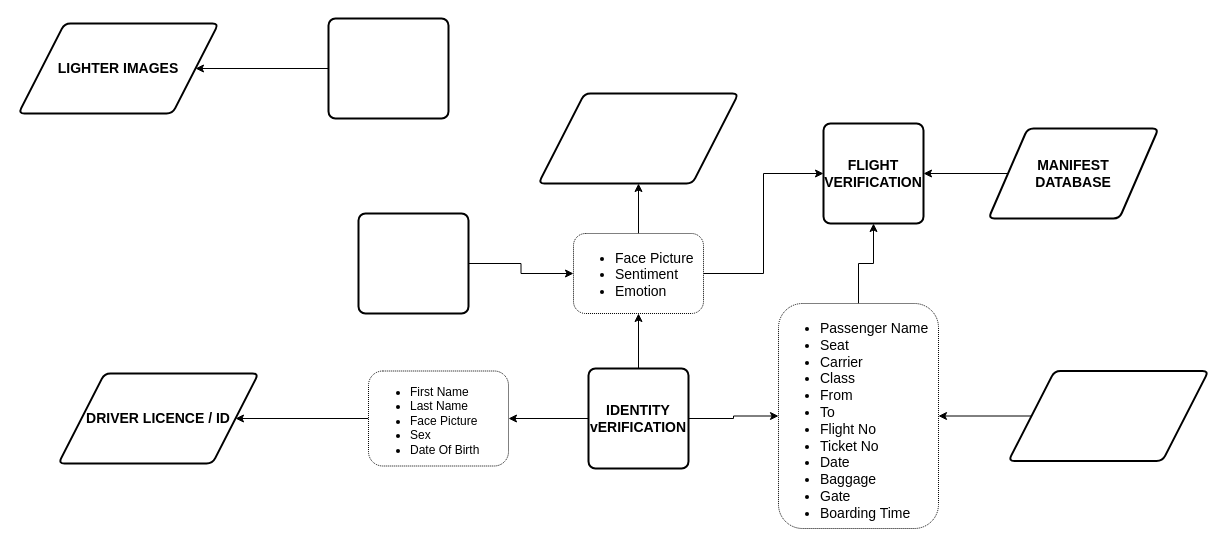
Some shapes in this 1226 by 546 pixel diagram are drawn without their labels. Each missing label, with the box of its shape:
30 SECONDS VIDEO: (537, 92, 739, 184)
BAGGAGE VERIFICATION: (327, 17, 449, 119)
BOARDING PASS: (1007, 370, 1209, 462)
KIOSK EXPERIENCE: (357, 212, 469, 314)
